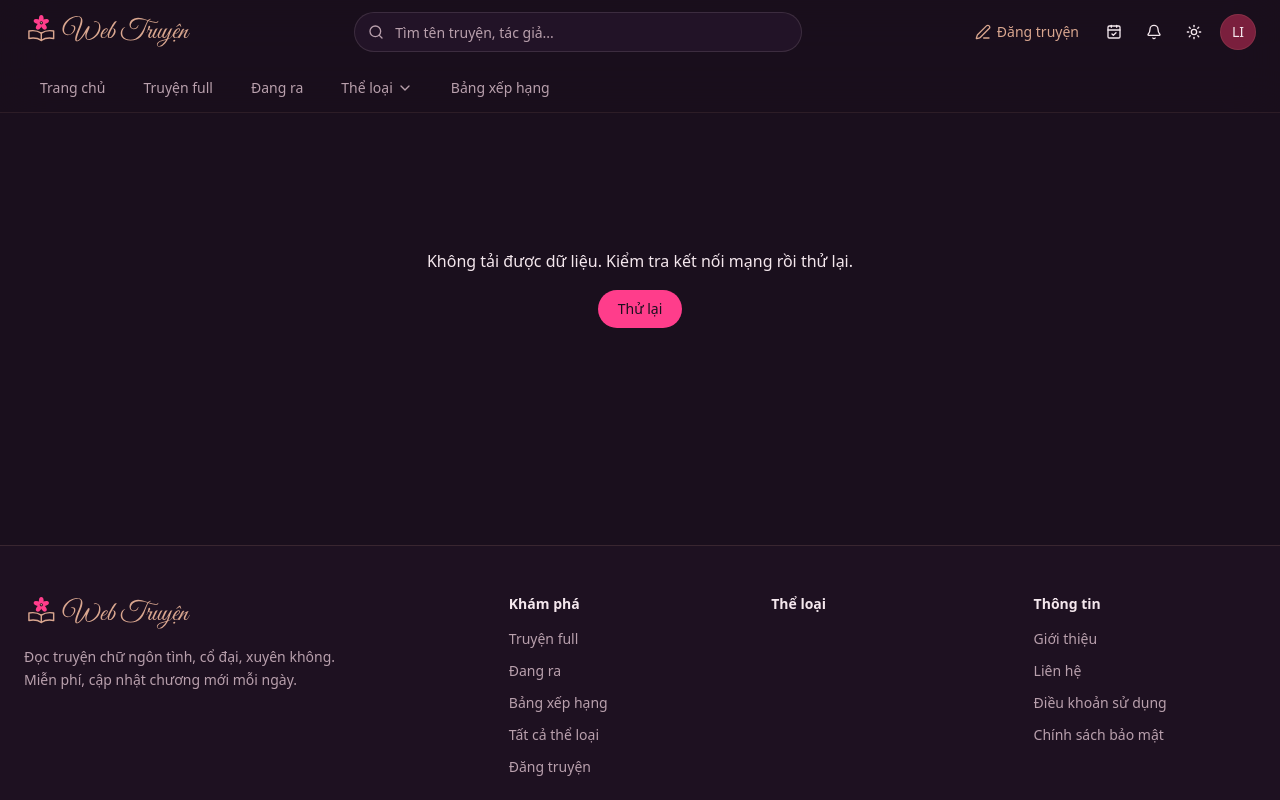
Test: trình soạn chương: lỗi mạng khi tải danh sách chương thì cho thử lại
The width and height of the screenshot is (1280, 800).
Expected: the text "Không tải được dữ liệu. Kiểm tra kết nối mạng rồi thử lại." is shown, [427,249,853,273]
Click the button "Thử lại" at (640, 309), box [597,289,683,329]
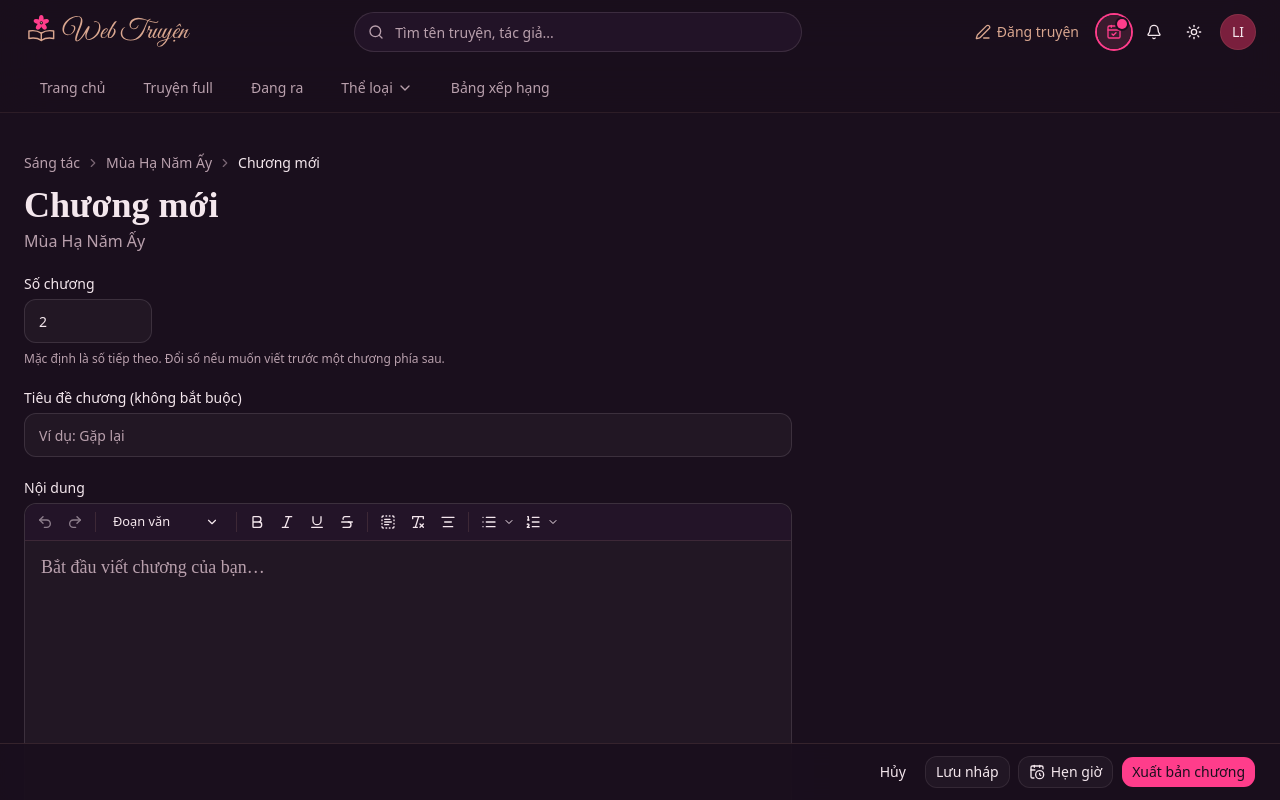
Expected: the number field labelled "Số chương" holds "2", [24,299,152,343]
